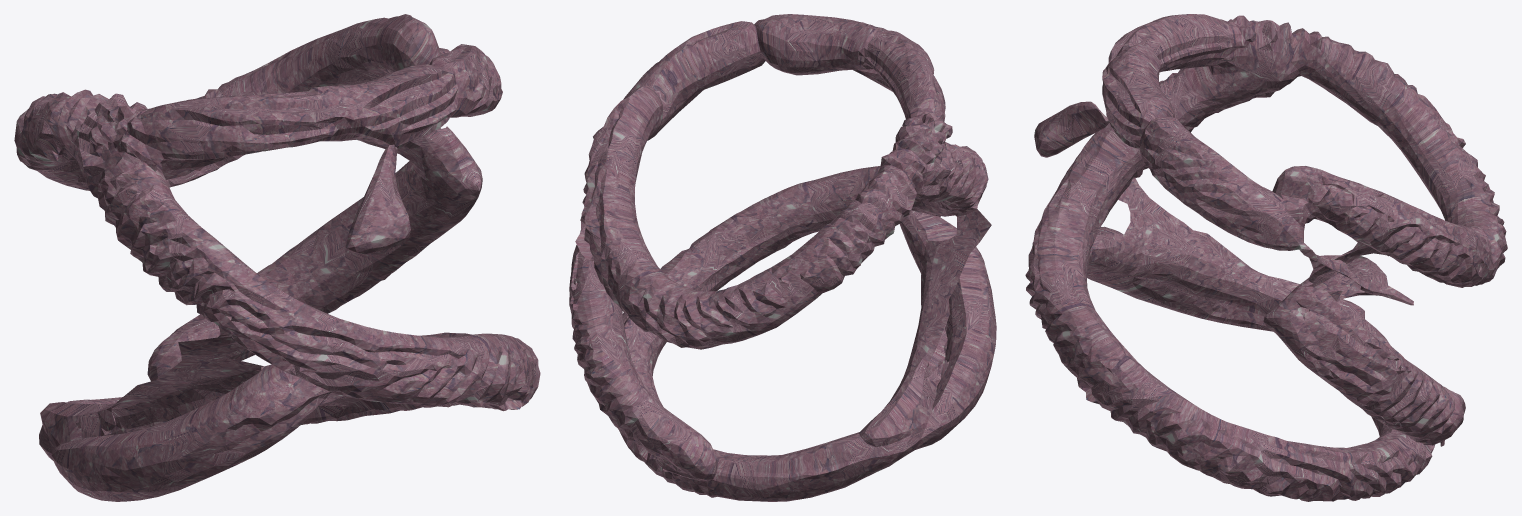
File: jewelry_sphmapped 1.glb
3 views of the same model, side by side, from view 1: azimuth 30°, elevation 25°; view 2: azimuth 150°, elevation 25°; view 3: azimuth 270°, elevation 25° (orthographic). The views are drawn at different scales.
Visible parts, largest first — view 1: world; view 2: world; view 3: world.
Boxes of the visible parts, <box> form: world: <box>14,14,540,501</box>; world: <box>569,14,996,501</box>; world: <box>1025,14,1507,501</box>.
Bounding box in the file's own units: 0.6586 × 0.6818 × 0.7426.
1 material, 1 textured.
